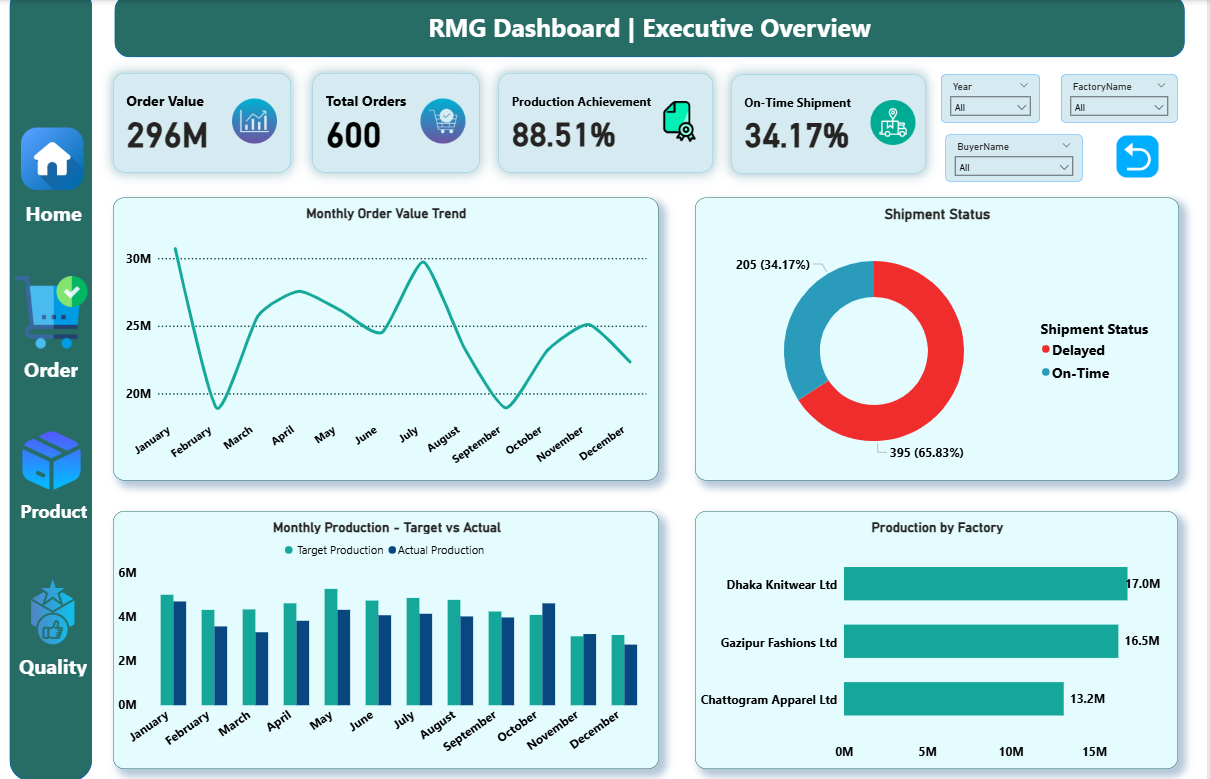

The dashboard page shown, as its layout file describes it:
{"tool":"powerbi","page":{"name":"Home","canvas":[1610,1100],"ordinal":0},"visuals":[{"type":"cardVisual","fields":{"Data":["Measure.Total Order Value"]},"box":[152.5,123.8,237.5,132.5],"z":0},{"type":"cardVisual","fields":{"Data":["Measure.On-Time Shipment %"]},"box":[975,125,260,132.5],"z":1000},{"type":"cardVisual","fields":{"Data":["Measure.Total Orders"]},"box":[418.8,123.8,222.5,132.5],"z":2000},{"type":"cardVisual","fields":{"Data":["Measure.Production Achievement %"]},"box":[666.2,123.8,286.2,132.5],"z":3000},{"type":"shape","box":[153,20,1427,83],"z":4000},{"type":"shape","box":[17.5,20,110,1060],"z":5000},{"type":"lineChart","title":"Monthly Order Value Trend","fields":{"Category":["dim_date.MonthName"],"Y":["Measure.Total Order Value"]},"box":[152.5,290,727.5,377.5],"z":6000},{"type":"donutChart","title":"Shipment Status","fields":{"Category":["fact_shipment.Shipment Status"],"Y":["Measure.Total Shipments"]},"box":[927.5,290,645,377.5],"z":7000},{"type":"clusteredBarChart","title":"Production by Factory","fields":{"Y":["Measure.Actual Production"],"Category":["dim_factory.FactoryName"]},"box":[927.5,707.5,645,372.5],"z":8000},{"type":"clusteredColumnChart","title":"Monthly Production  -  Target vs Actual","fields":{"Category":["dim_date.MonthName"],"Y":["Sum(fact_production_daily.TargetQty)","Measure.Actual Production"]},"box":[152.5,707.5,727.5,372.5],"z":9000},{"type":"slicer","fields":{"Values":["dim_date.Year"]},"box":[1255,125,132,64],"z":10000},{"type":"slicer","fields":{"Values":["dim_factory.FactoryName"]},"box":[1416.2,125,155,63.8],"z":11000},{"type":"slicer","fields":{"Values":["dim_buyer.BuyerName"]},"box":[1262.5,205,182.5,62.5],"z":12000},{"type":"image","box":[1480,202,76,66],"z":13000},{"type":"image","box":[23.3,185,93.3,105],"z":13001},{"type":"shape","box":[21.4,290,101.4,38.6],"z":13002},{"type":"shape","box":[18.6,498.6,102.9,40],"z":13003},{"type":"shape","box":[22.3,893.8,100,37.7],"z":13004},{"type":"shape","box":[22,688,102,38],"z":13005},{"type":"image","box":[15.7,388.6,107.1,110],"z":13006},{"type":"image","box":[20,591.4,100,97.1],"z":13007},{"type":"image","box":[20,790,102.9,104.3],"z":13008}]}

Visuals, with their boxes on the page's 1610x1100 design canvas (x1, y1, x2, y2). These are canvas units, not pixel positions in the 1210x779 screenshot, which may show the page scaled, cropped or inside an application window:
cardVisual - Measure.Total Order Value: crop(152, 124, 390, 256)
cardVisual - Measure.On-Time Shipment %: crop(975, 125, 1235, 258)
cardVisual - Measure.Total Orders: crop(419, 124, 641, 256)
cardVisual - Measure.Production Achievement %: crop(666, 124, 952, 256)
shape: crop(153, 20, 1580, 103)
shape: crop(18, 20, 128, 1080)
"Monthly Order Value Trend" lineChart: crop(152, 290, 880, 668)
"Shipment Status" donutChart: crop(928, 290, 1572, 668)
"Production by Factory" clusteredBarChart: crop(928, 708, 1572, 1080)
"Monthly Production  -  Target vs Actual" clusteredColumnChart: crop(152, 708, 880, 1080)
slicer - dim_date.Year: crop(1255, 125, 1387, 189)
slicer - dim_factory.FactoryName: crop(1416, 125, 1571, 189)
slicer - dim_buyer.BuyerName: crop(1262, 205, 1445, 268)
image: crop(1480, 202, 1556, 268)
image: crop(23, 185, 117, 290)
shape: crop(21, 290, 123, 329)
shape: crop(19, 499, 122, 539)
shape: crop(22, 894, 122, 932)
shape: crop(22, 688, 124, 726)
image: crop(16, 389, 123, 499)
image: crop(20, 591, 120, 688)
image: crop(20, 790, 123, 894)
